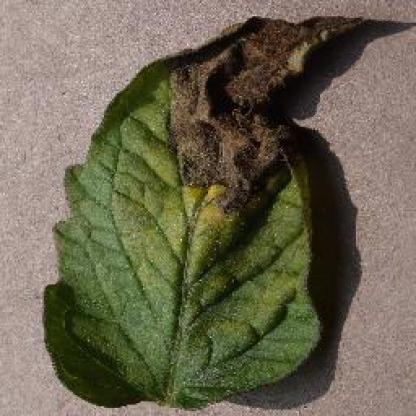bad leaf: (45, 10, 391, 384)
